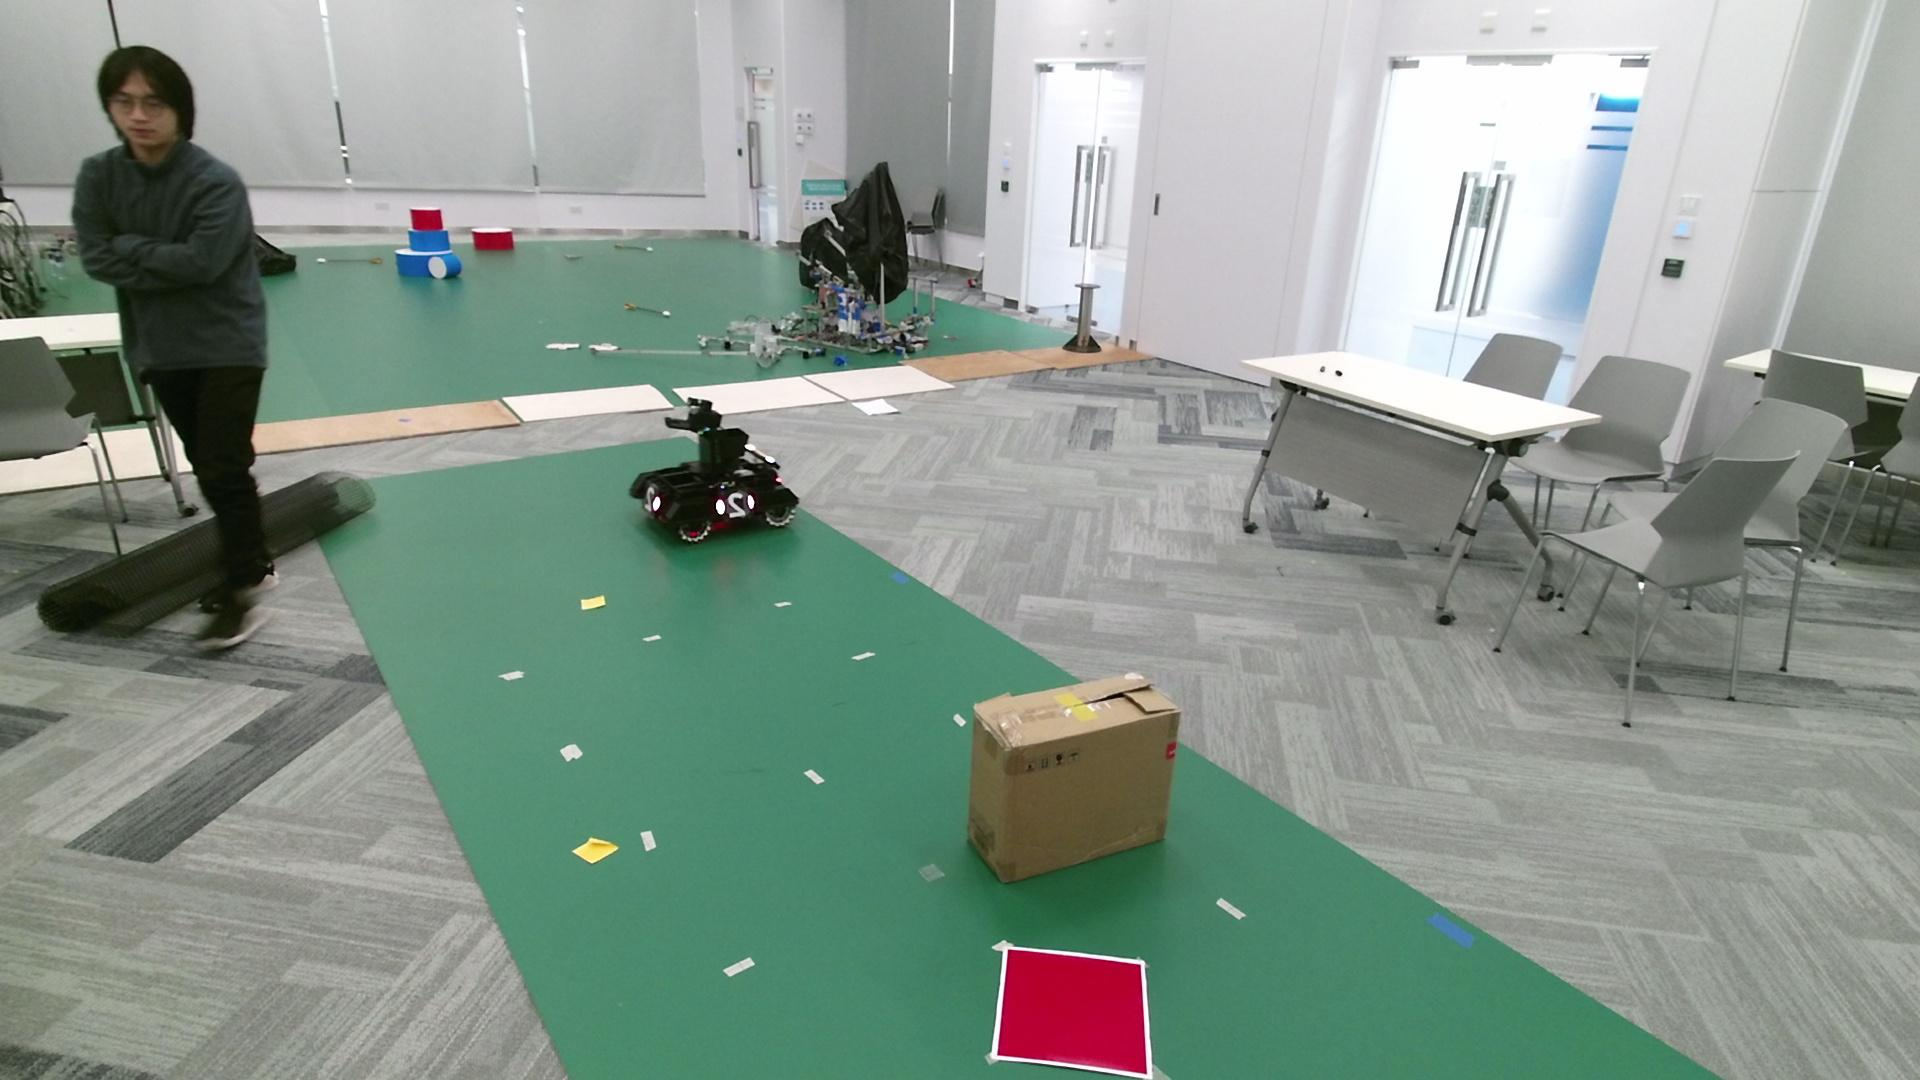robot: (630, 396, 800, 545)
